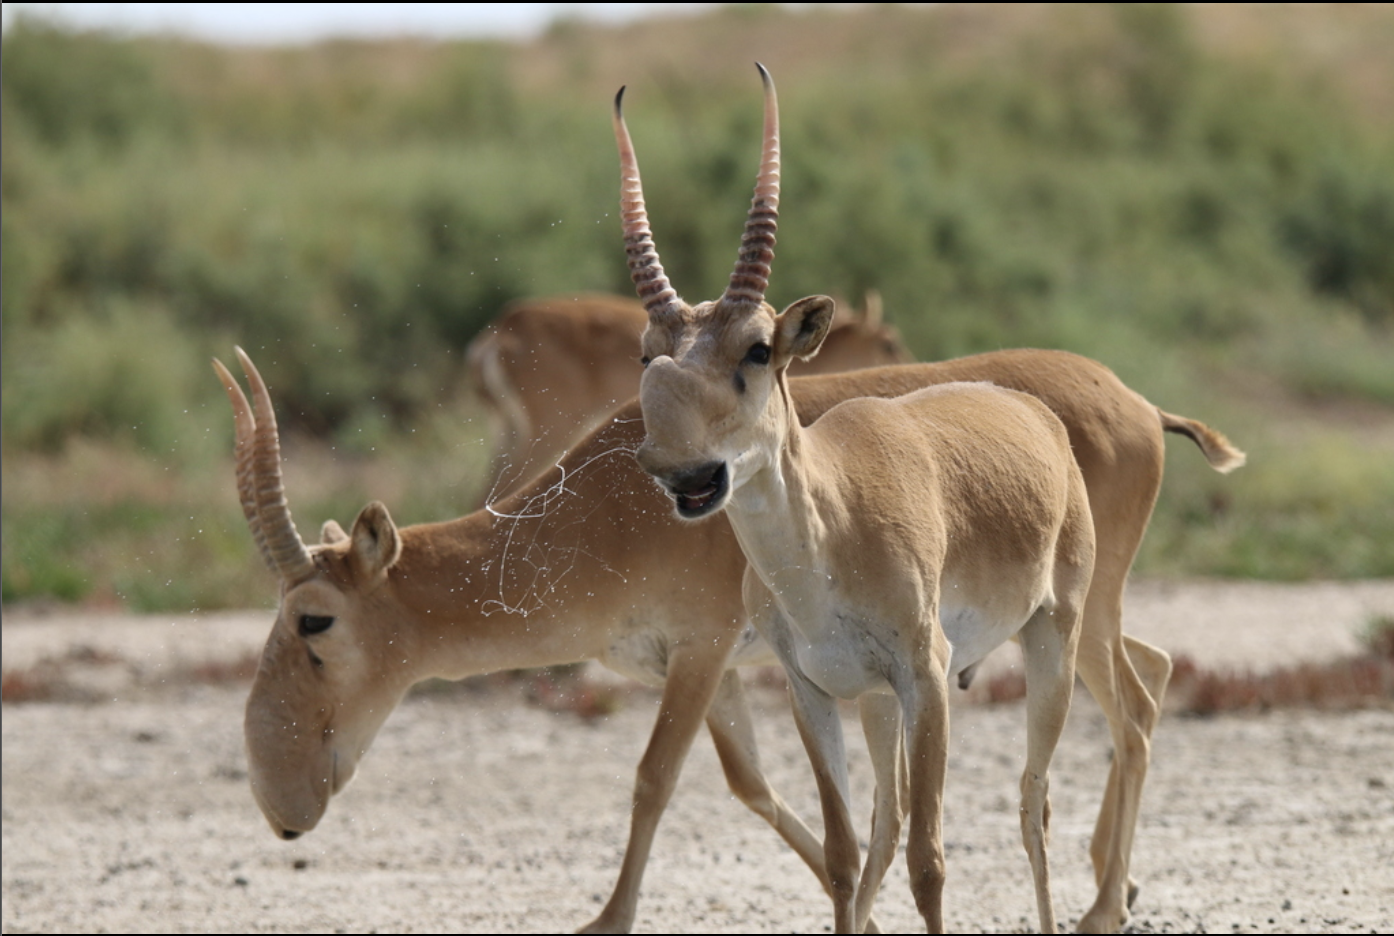saiga: (529, 46, 1154, 902)
